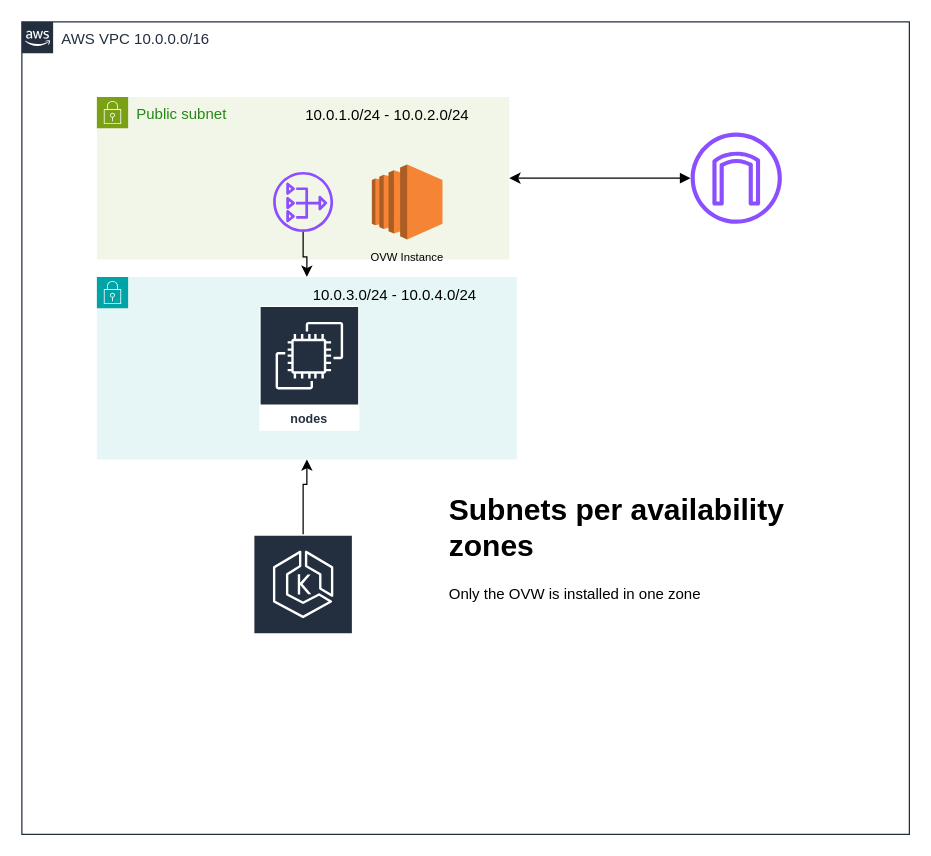
The diagram is 931 pixels wide and 856 high, and some of its shapes have lost their labels. Here are the shapes that lost their labels. From the top down, the box of each, then its label:
(96, 276, 517, 459): Private subnet
(252, 533, 353, 659): Amazon EKS
